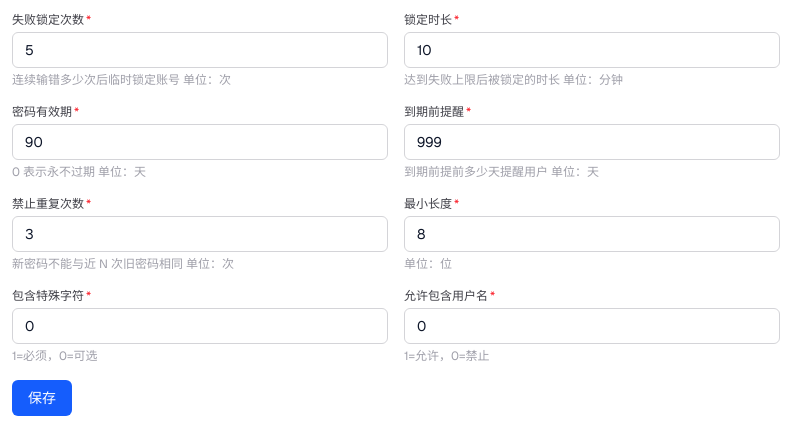
it: SecurityConfigForm › 提醒天数 > 有效期 时给出错误且阻止提交
The image size is (797, 436).
Click the button "保存" at (42, 398), box x1=12 y1=380 x2=72 y2=416
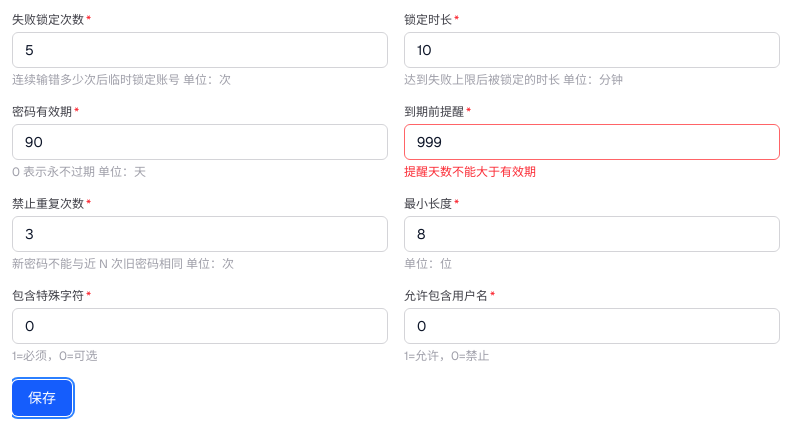
Expected: the text "提醒天数不能大于有效期" is shown, x1=404 y1=164 x2=536 y2=180
